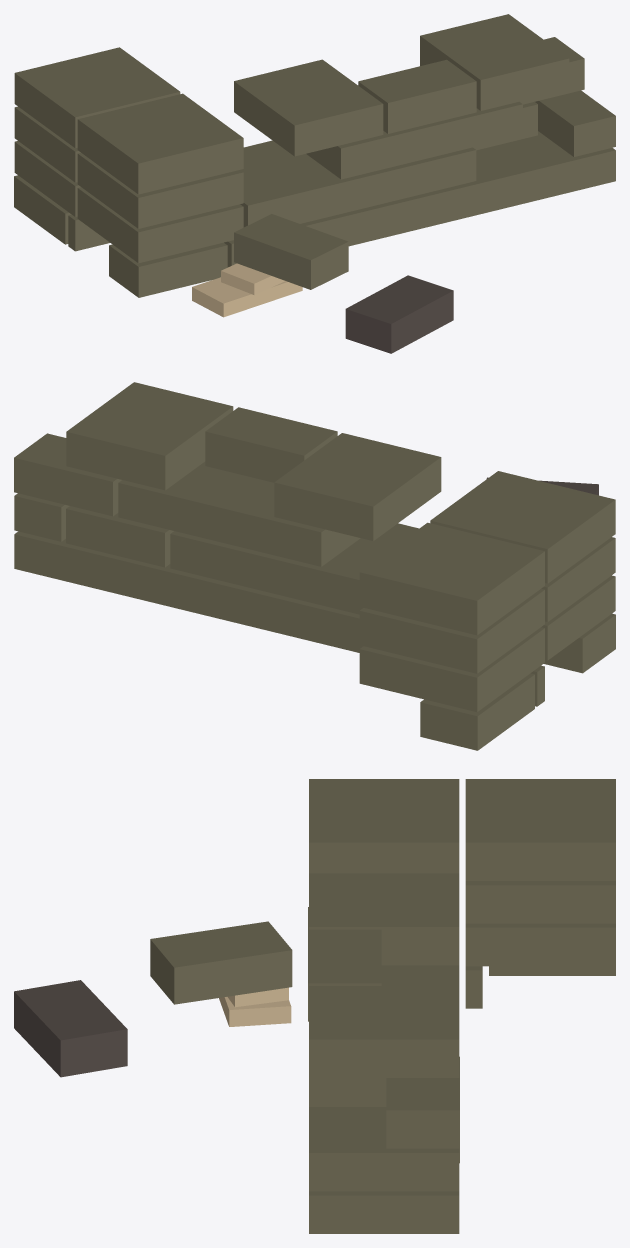
File: SM_SacosRemate_v0_Recto_e1_Danado_LOD1.fbx
3 views of the same model, one above another, from view 1: azimuth 30°, elevation 25°; view 2: azimuth 150°, elevation 25°; view 3: azimuth 270°, elevation 25° (orthographic). The views are drawn at different scales.
Parts seen in each view (by area): view 1: SM_sacos_piezas_v21_LOD1; view 2: SM_sacos_piezas_v21_LOD1; view 3: SM_sacos_piezas_v21_LOD1.
Boxes of the visible parts, x1,y1,x2,y2 form: SM_sacos_piezas_v21_LOD1: (14, 14, 615, 353); SM_sacos_piezas_v21_LOD1: (14, 382, 615, 750); SM_sacos_piezas_v21_LOD1: (14, 779, 615, 1233).
Size of the model in its own units: 4.37 by 1.18 by 3.84.
